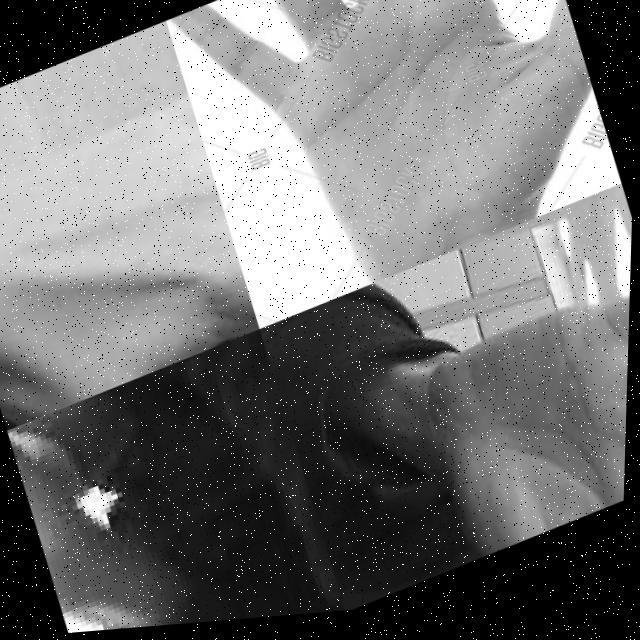no-gloves: (159, 0, 628, 339), (0, 78, 268, 431), (410, 283, 632, 574)
